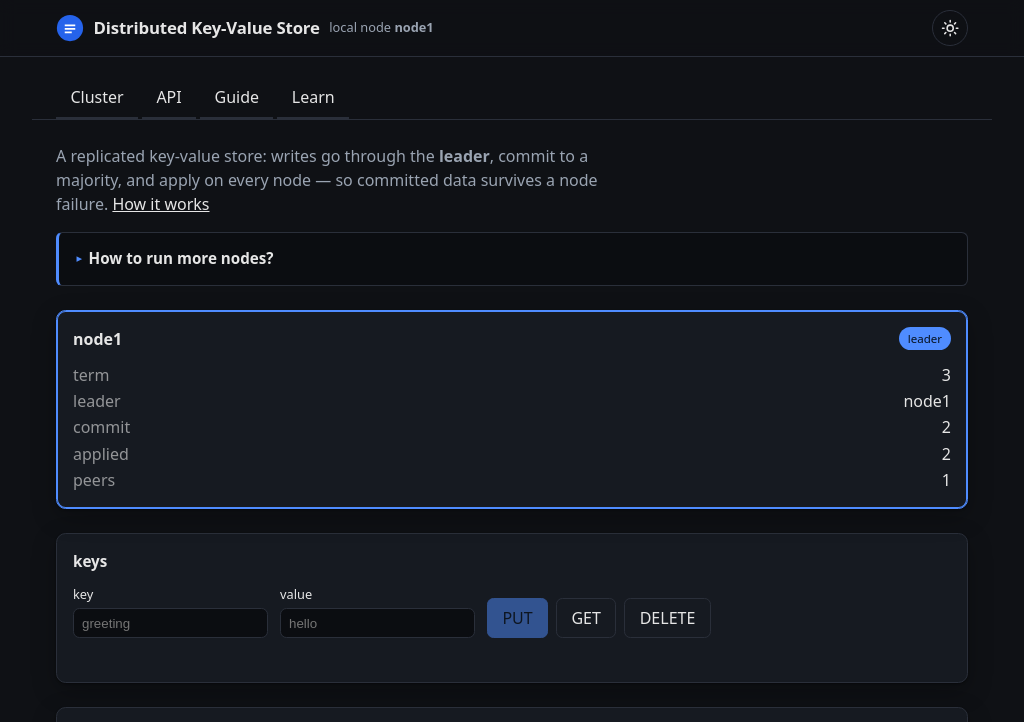
Scenario: App › explains how to run more nodes in a callout that starts collapsed
Click the heading "How to run more nodes?". click: (181, 258)
box: [89,248,274,268]
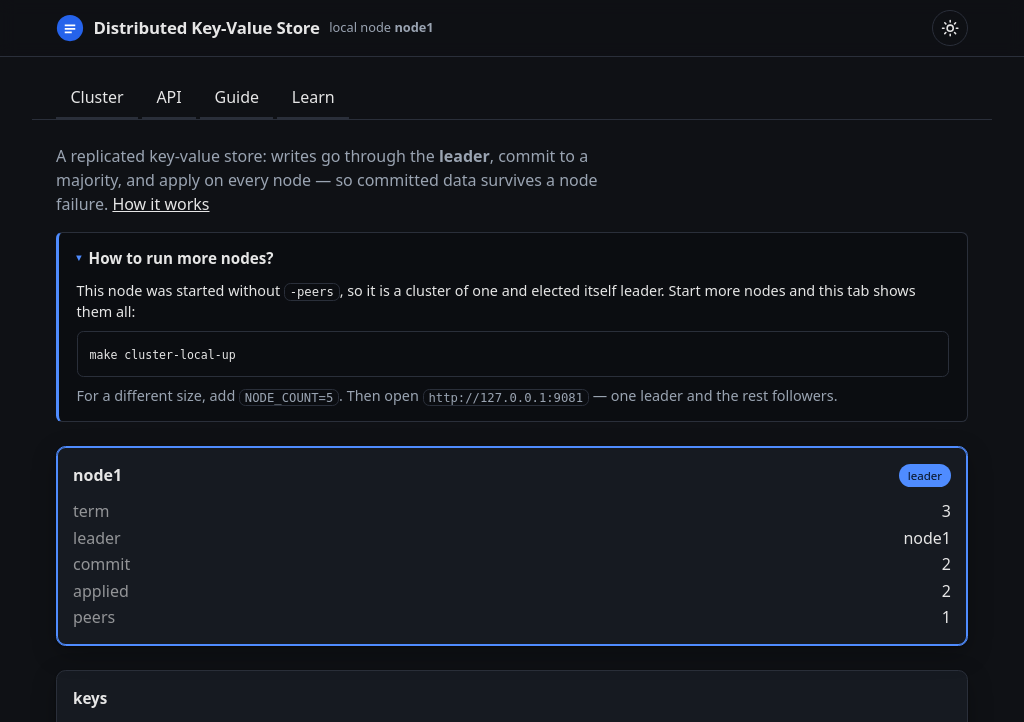
expect the text "make cluster-local-up" is shown: met, box [90,348,236,362]
expect the text "NODE_COUNT=5" is shown: met, box [239,389,339,406]
